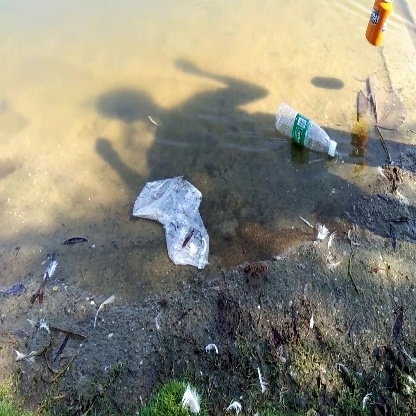bottle: (275, 94, 348, 163), (362, 1, 396, 49)
plastic-bag: (134, 170, 218, 271)
